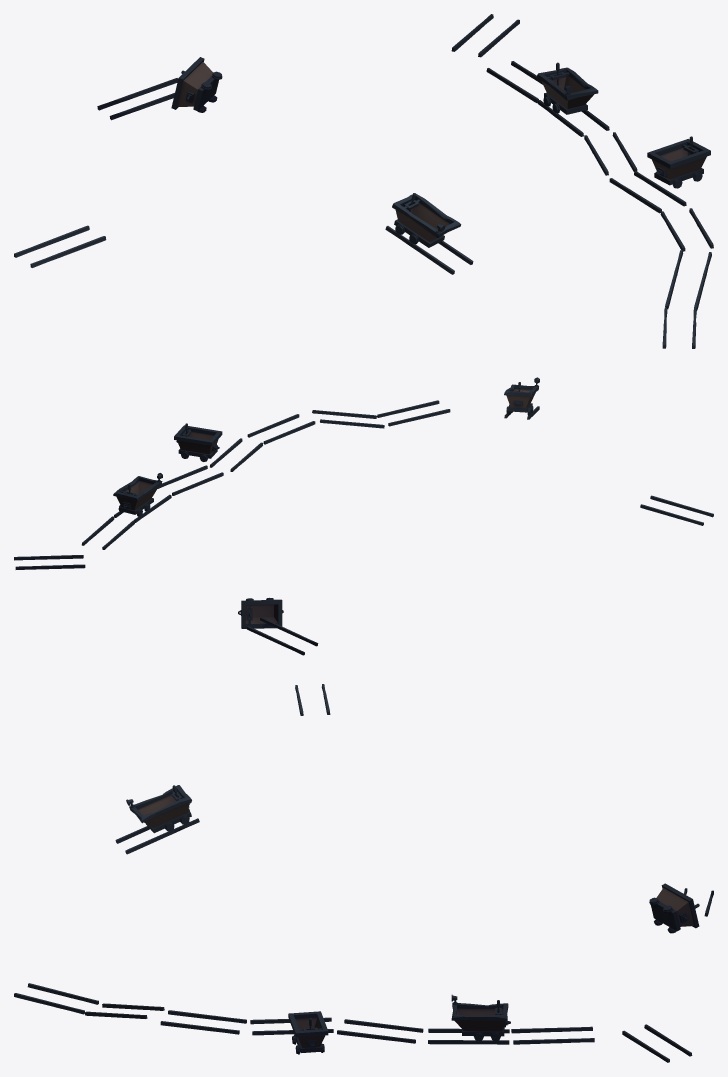
File: Rail_02.FBX
The picture shows the model from 3 angles, top to bottom: view 1: azimuth 30°, elevation 25°; view 2: azimuth 150°, elevation 25°; view 3: azimuth 270°, elevation 25°; orthographic projection. The views are drawn at different scales.
Parts seen in each view (by area): view 1: Rail_02; view 2: Rail_02; view 3: Rail_02.
Boxes of the visible parts, left/top/right/bottom form: Rail_02: left=14, top=14, right=713, bottom=348; Rail_02: left=14, top=377, right=713, bottom=655; Rail_02: left=14, top=684, right=713, bottom=1062.
Bounding box in the file's own units: 34.79 × 6.68 × 33.38.
